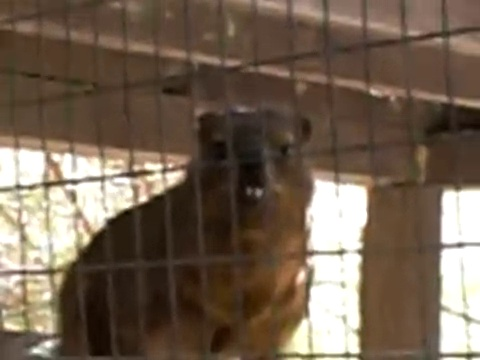Rock Hyrex: (60, 106, 317, 360)
